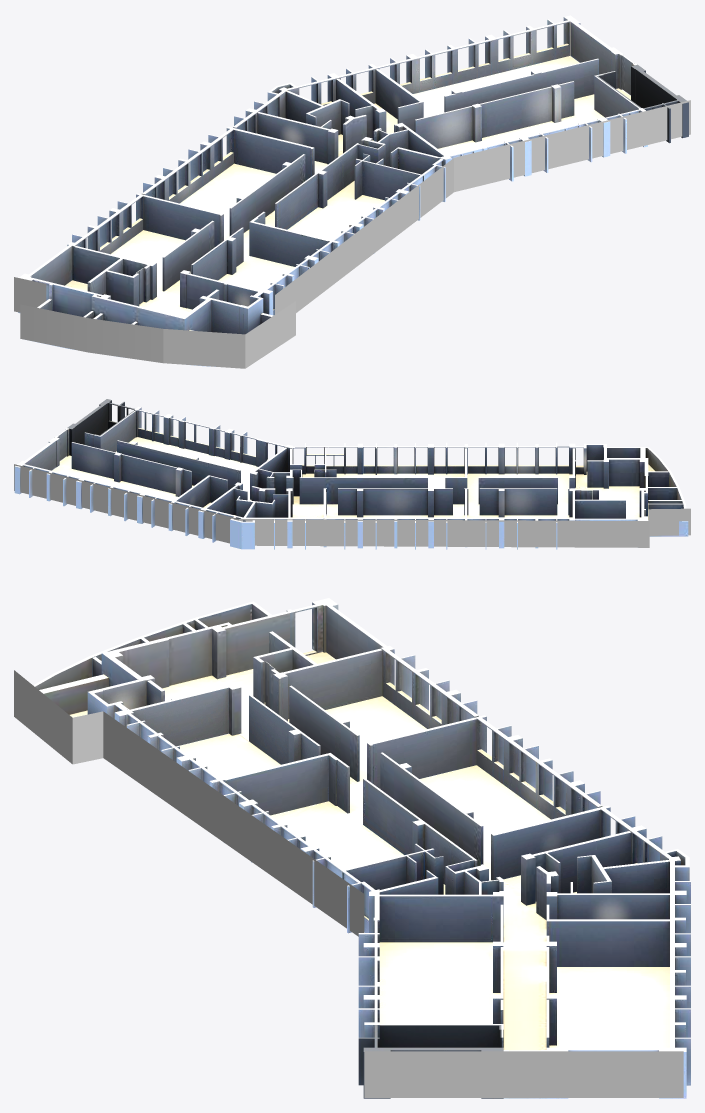
3 views of the same model, one above another, from view 1: azimuth 30°, elevation 25°; view 2: azimuth 150°, elevation 25°; view 3: azimuth 270°, elevation 25° (orthographic). The views are drawn at different scales.
Visible parts, largest first — view 1: hd_2floor_wlm_1, hd_2_zoulang_2, hd_2floor_room03_5, hd_2floor_room02_4, hd_2floor_room010_12, hd_2floor_room06_8, hd_2floor_room07_9, hd_2floor_room09_11, hd_2floor_room011_13, hd_2floor_room04_6, hd_2floor_room08_10, hd_2floor_room05_7 (+2 smaller); view 2: hd_2floor_wlm_1, hd_2_zoulang_2, hd_2floor_room03_5, hd_2floor_room02_4, hd_2floor_room06_8, hd_2floor_room010_12, hd_2floor_room07_9, hd_2floor_room09_11, hd_2floor_room011_13, hd_2floor_room04_6, hd_2floor_room01_3, hd_2floor_room08_10 (+1 smaller); view 3: hd_2_zoulang_2, hd_2floor_wlm_1, hd_2floor_room03_5, hd_2floor_room010_12, hd_2floor_room02_4, hd_2floor_room06_8, hd_2floor_room07_9, hd_2floor_room09_11, hd_2floor_room011_13, hd_2floor_room05_7, hd_2floor_room04_6, hd_2floor_room01_3 (+2 smaller).
Boxes of the visible parts, bbox=[...] form: hd_2floor_wlm_1: bbox=[14, 100, 690, 368]; hd_2_zoulang_2: bbox=[18, 55, 637, 366]; hd_2floor_room03_5: bbox=[377, 15, 623, 117]; hd_2floor_room02_4: bbox=[405, 74, 647, 181]; hd_2floor_room010_12: bbox=[252, 143, 445, 253]; hd_2floor_room06_8: bbox=[137, 127, 313, 241]; hd_2floor_room07_9: bbox=[67, 194, 221, 299]; hd_2floor_room09_11: bbox=[188, 217, 332, 315]; hd_2floor_room011_13: bbox=[245, 76, 372, 149]; hd_2floor_room04_6: bbox=[327, 64, 420, 133]; hd_2floor_room08_10: bbox=[199, 283, 263, 334]; hd_2floor_room05_7: bbox=[228, 112, 328, 174]; hd_2floor_wlm_1: bbox=[14, 464, 690, 547]; hd_2_zoulang_2: bbox=[57, 428, 688, 536]; hd_2floor_room03_5: bbox=[14, 436, 209, 527]; hd_2floor_room02_4: bbox=[94, 406, 285, 498]; hd_2floor_room06_8: bbox=[325, 488, 466, 549]; hd_2floor_room010_12: bbox=[291, 442, 467, 488]; hd_2floor_room07_9: bbox=[466, 488, 575, 549]; hd_2floor_room09_11: bbox=[457, 442, 575, 504]; hd_2floor_room011_13: bbox=[203, 488, 292, 549]; hd_2floor_room04_6: bbox=[168, 476, 242, 538]; hd_2floor_room01_3: bbox=[67, 399, 134, 455]; hd_2floor_room08_10: bbox=[574, 443, 608, 488]; hd_2_zoulang_2: bbox=[33, 598, 571, 1098]; hd_2floor_wlm_1: bbox=[14, 670, 683, 1097]; hd_2floor_room03_5: bbox=[540, 920, 690, 1098]; hd_2floor_room010_12: bbox=[209, 754, 476, 933]; hd_2floor_room02_4: bbox=[358, 895, 503, 1047]; hd_2floor_room06_8: bbox=[369, 716, 608, 880]; hd_2floor_room07_9: bbox=[273, 645, 485, 784]; hd_2floor_room09_11: bbox=[114, 687, 338, 785]; hd_2floor_room011_13: bbox=[546, 825, 690, 903]; hd_2floor_room05_7: bbox=[492, 806, 635, 892]; hd_2floor_room04_6: bbox=[546, 890, 690, 933]; hd_2floor_room01_3: bbox=[358, 1025, 503, 1098].
Size of the model in its own units: 8.3 by 0.4046 by 5.02.
14 materials, 13 textured.
